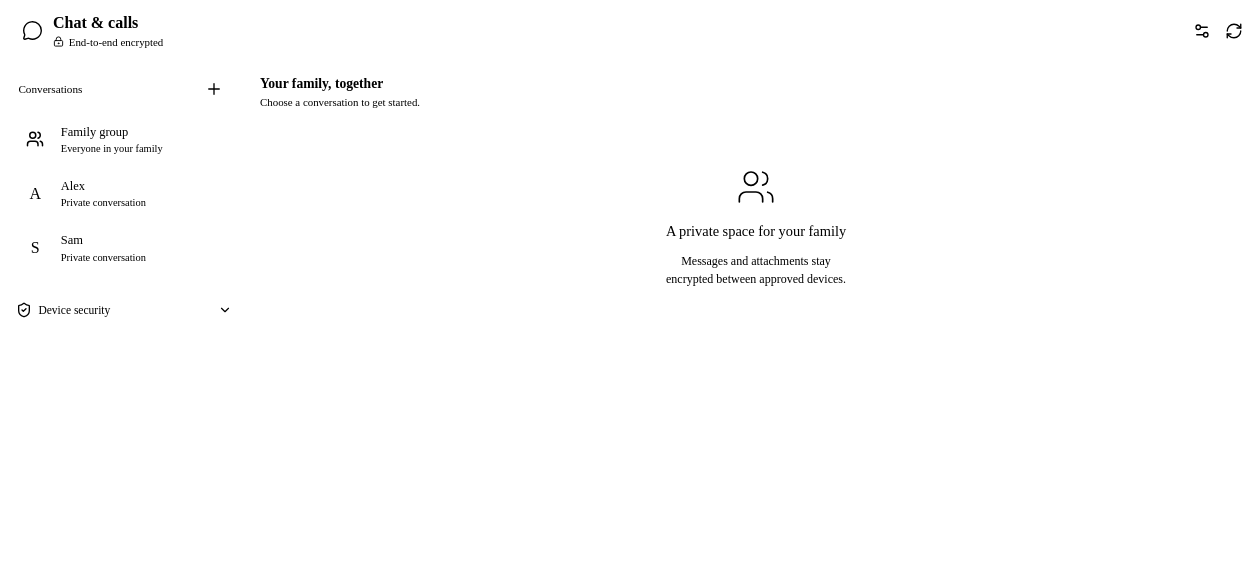
Scenario: starts encrypted chat using the saved family ID rather than the login placeholder
The width and height of the screenshot is (1259, 566).
Click the heading "Device security".
click(74, 310)  # box [16, 302, 232, 318]
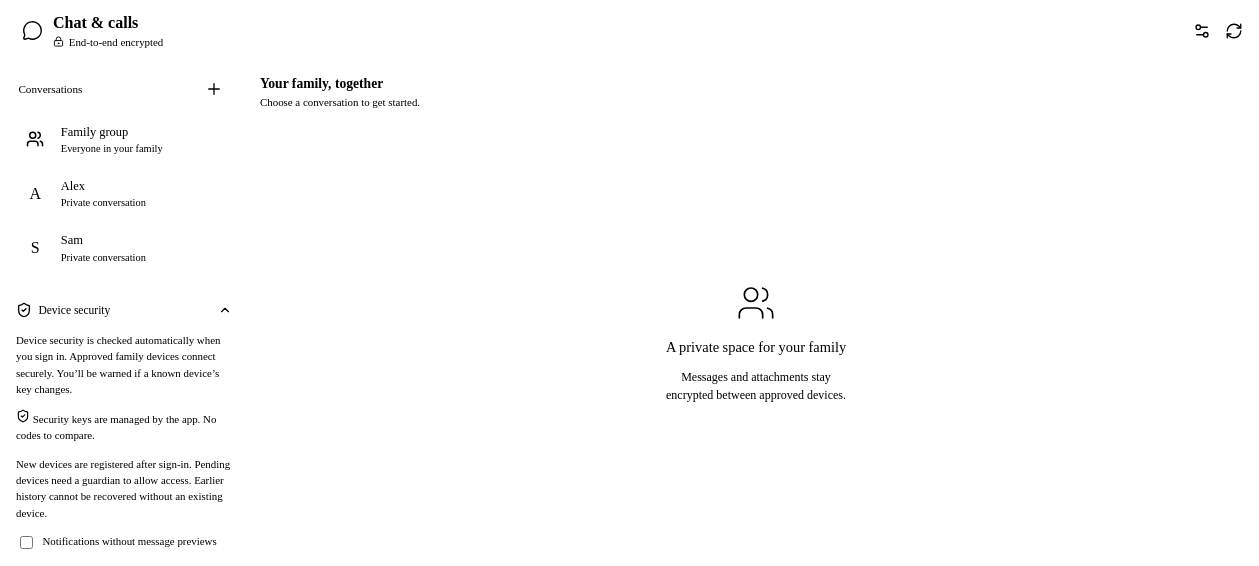
Expected: the text "Security keys are managed by the app. No codes to compare." is shown, [16, 409, 232, 444]
